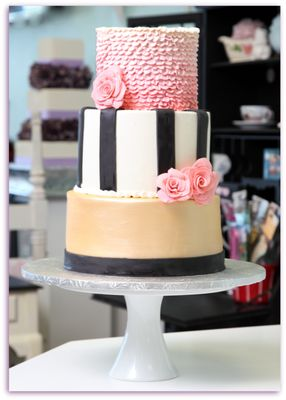sushi: (64, 106, 228, 277)
